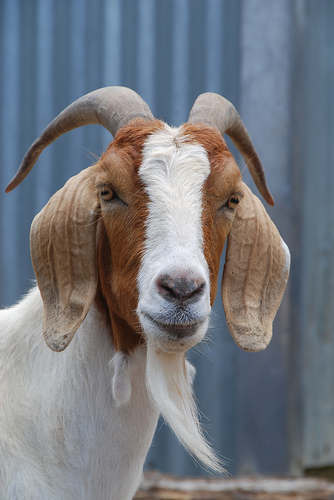goat: (1, 83, 292, 500)
